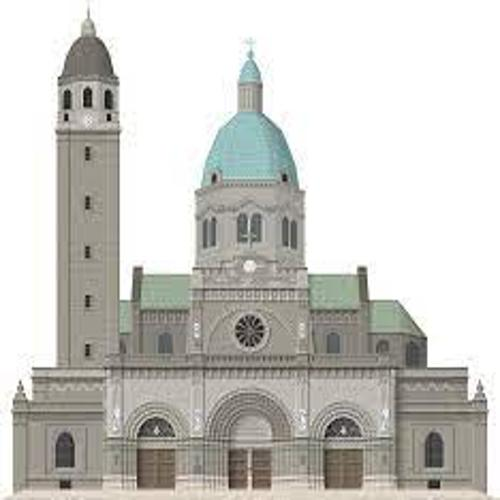Manila Cathedral Church: (12, 3, 488, 495)
